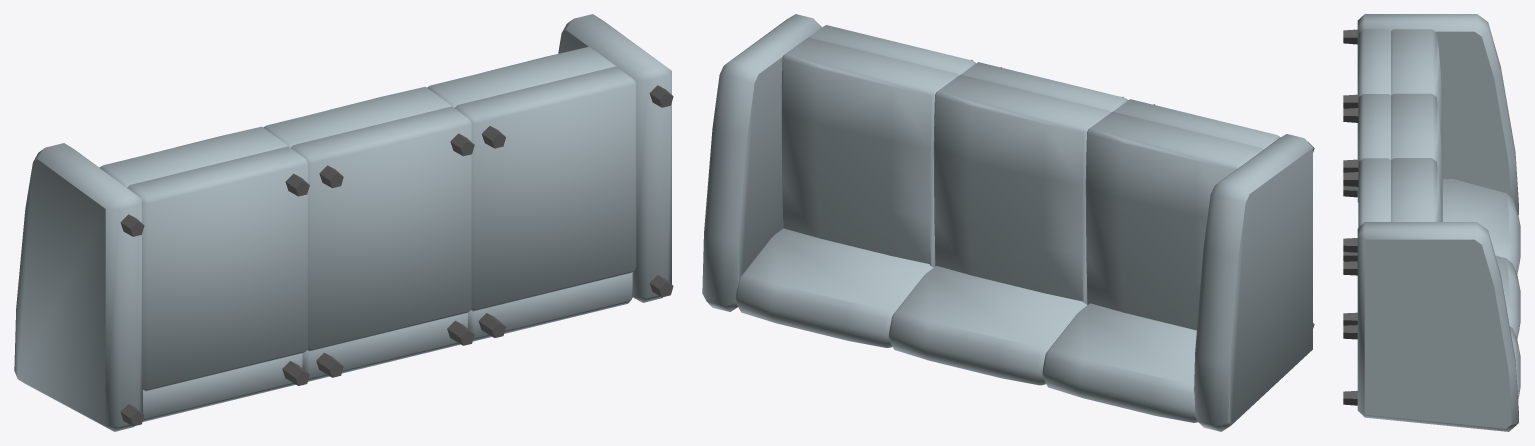
The model's file is sofa.glb.
The picture shows the model from 3 angles, left to right: view 1: azimuth 30°, elevation 25°; view 2: azimuth 150°, elevation 25°; view 3: azimuth 270°, elevation 25°; orthographic projection. The views are drawn at different scales.
Parts seen in each view (by area): view 1: sofa_001; view 2: sofa_001; view 3: sofa_001.
Part boxes in pixels (left/top/right/bottom): sofa_001: left=14, top=14, right=673, bottom=431; sofa_001: left=702, top=14, right=1314, bottom=431; sofa_001: left=1343, top=14, right=1520, bottom=431.
Size of the model in its own units: 2.05 by 0.8681 by 0.6885.
1 material, 1 textured.
